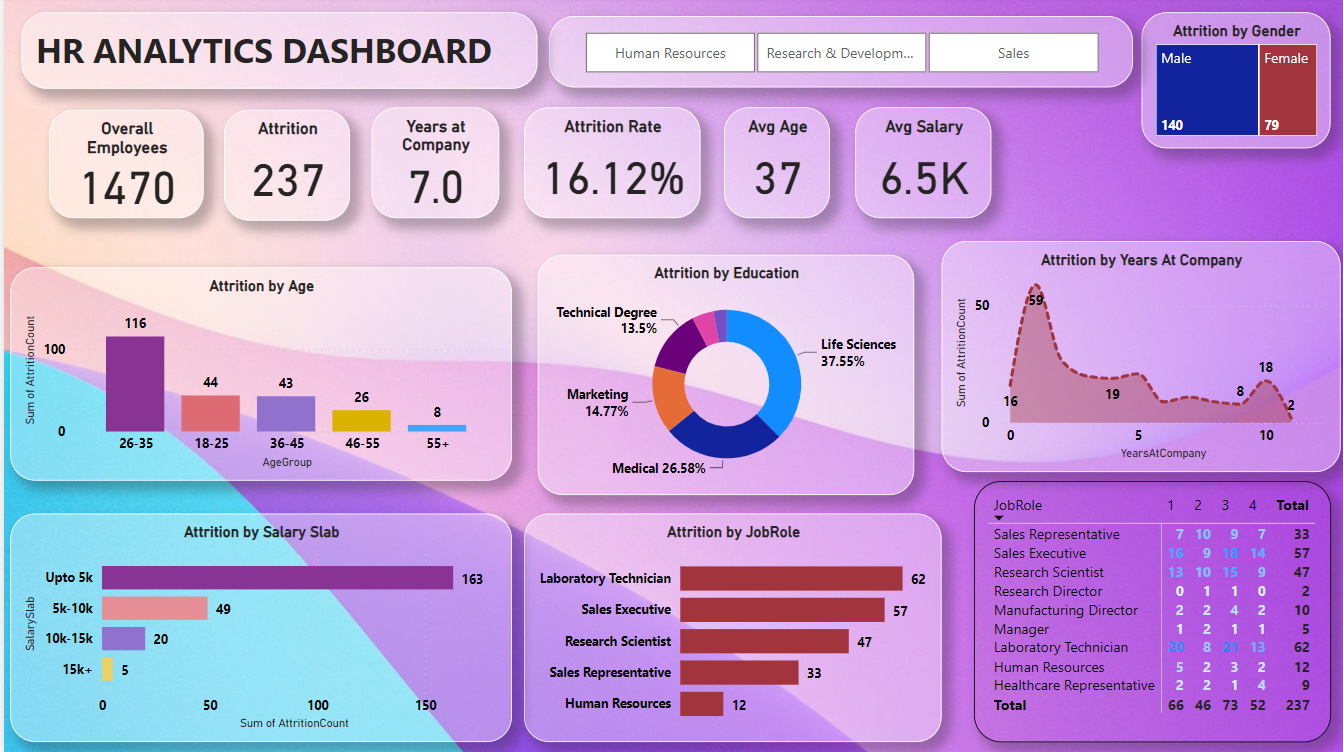

What the dashboard file says about the page in this screenshot:
{"tool":"powerbi","page":{"name":"Page 1","canvas":[1280,720],"ordinal":0},"visuals":[{"type":"card","title":"Overall Employees ","fields":{"Values":["CountNonNull(HR_Analytics.EmpID)"]},"box":[42.8,108.3,147.6,103.5],"z":0},{"type":"card","title":"Attrition","fields":{"Values":["Sum(HR_Analytics.AttritionCount)"]},"box":[209.5,108.3,120.2,105.9],"z":1000},{"type":"card","title":"Avg Age ","fields":{"Values":["Avg(HR_Analytics.Age)"]},"box":[685.5,105.9,101.2,105.9],"z":2000},{"type":"card","title":"Attrition Rate","fields":{"Values":["HR_Analytics.AttritionRate"]},"box":[495.1,105.9,167.8,105.9],"z":3000},{"type":"card","title":"Avg Salary","fields":{"Values":["Avg(HR_Analytics.MonthlyIncome)"]},"box":[810.4,105.9,129.7,105.9],"z":4000},{"type":"card","title":"Years at Company","fields":{"Values":["Avg(HR_Analytics.YearsAtCompany)"]},"box":[349.9,105.9,121.4,105.9],"z":5000},{"type":"donutChart","title":"Attrition by Education","fields":{"Y":["Sum(HR_Analytics.AttritionCount)"],"Category":["HR_Analytics.EducationField"]},"box":[508.2,246.3,358.2,228.5],"z":6000},{"type":"pivotTable","fields":{"Rows":["HR_Analytics.JobRole"],"Columns":["HR_Analytics.JobSatisfaction"],"Values":["Sum(HR_Analytics.AttritionCount)"]},"box":[923.5,461.8,340.4,248.7],"z":7000},{"type":"clusteredBarChart","title":"Attrition by JobRole","fields":{"Y":["Sum(HR_Analytics.AttritionCount)"],"Category":["HR_Analytics.JobRole"]},"box":[495.1,492.7,397.5,217.8],"z":8000},{"type":"columnChart","title":"Attrition by Age","fields":{"Category":["HR_Analytics.AgeGroup"],"Y":["Sum(HR_Analytics.AttritionCount)"]},"box":[6,258.2,477.2,203.5],"z":9000},{"type":"areaChart","title":"Attrition by Years At Company","fields":{"Category":["HR_Analytics.YearsAtCompany"],"Y":["Sum(HR_Analytics.AttritionCount)"]},"box":[892.6,233.3,379.6,220.2],"z":10000},{"type":"treemap","title":"Attrition by Gender","fields":{"Values":["Sum(HR_Analytics.AttritionCount)"],"Group":["HR_Analytics.Gender"]},"box":[1083,15.5,179.7,129.7],"z":11000},{"type":"slicer","fields":{"Values":["HR_Analytics.Department"]},"box":[518.9,19,555.8,67.8],"z":12000},{"type":"textbox","box":[16.7,15.5,491.5,72.6],"z":12001},{"type":"clusteredBarChart","title":"Attrition by Salary Slab","fields":{"Category":["HR_Analytics.SalarySlab"],"Y":["Sum(HR_Analytics.AttritionCount)"]},"box":[6,492.7,477.2,217.8],"z":12002}]}

Visuals, with their boxes in screenshot pixels (x1, y1, x2, y2), scaled from the page's 1280x720 canvas onto the 1343x752 screenshot:
"Overall Employees " card: {"x1": 45, "y1": 113, "x2": 200, "y2": 221}
"Attrition" card: {"x1": 220, "y1": 113, "x2": 346, "y2": 224}
"Avg Age " card: {"x1": 719, "y1": 111, "x2": 825, "y2": 221}
"Attrition Rate" card: {"x1": 519, "y1": 111, "x2": 696, "y2": 221}
"Avg Salary" card: {"x1": 850, "y1": 111, "x2": 986, "y2": 221}
"Years at Company" card: {"x1": 367, "y1": 111, "x2": 494, "y2": 221}
"Attrition by Education" donutChart: {"x1": 533, "y1": 257, "x2": 909, "y2": 496}
pivotTable - HR_Analytics.JobRole x HR_Analytics.JobSatisfaction: {"x1": 969, "y1": 482, "x2": 1326, "y2": 742}
"Attrition by JobRole" clusteredBarChart: {"x1": 519, "y1": 515, "x2": 937, "y2": 742}
"Attrition by Age" columnChart: {"x1": 6, "y1": 270, "x2": 507, "y2": 482}
"Attrition by Years At Company" areaChart: {"x1": 937, "y1": 244, "x2": 1335, "y2": 474}
"Attrition by Gender" treemap: {"x1": 1136, "y1": 16, "x2": 1325, "y2": 152}
slicer - HR_Analytics.Department: {"x1": 544, "y1": 20, "x2": 1128, "y2": 91}
textbox: {"x1": 18, "y1": 16, "x2": 533, "y2": 92}
"Attrition by Salary Slab" clusteredBarChart: {"x1": 6, "y1": 515, "x2": 507, "y2": 742}
